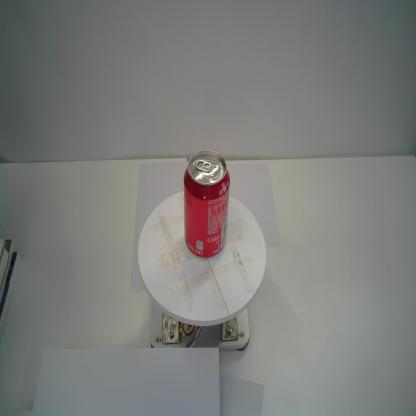Drink: (183, 149, 231, 258)
